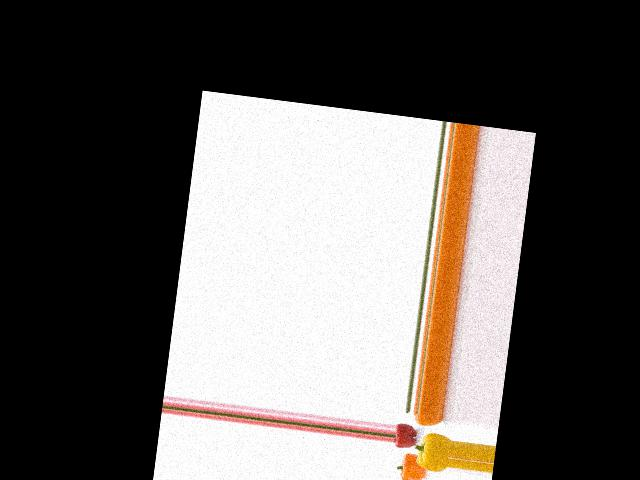bell_pepper: (411, 411, 443, 429)
